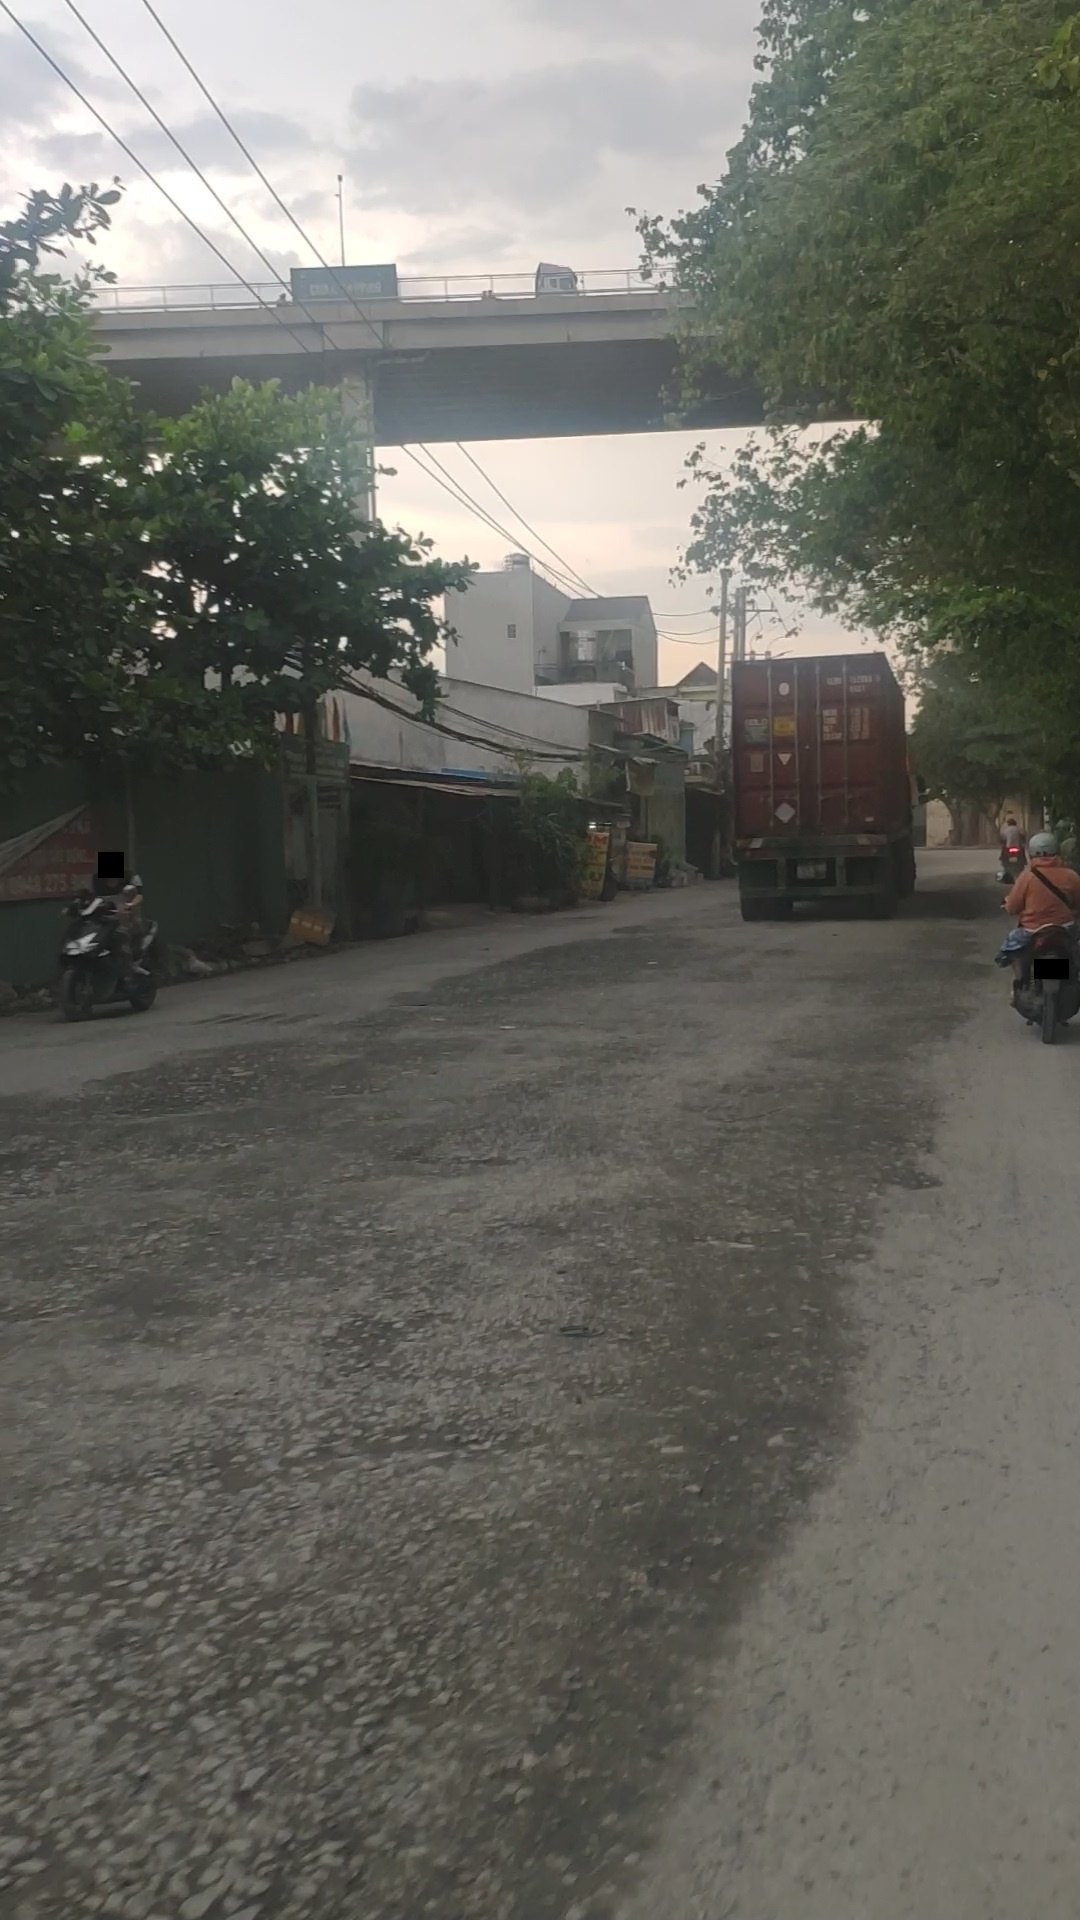hole: (1, 1203, 193, 1337), (1, 1116, 276, 1207), (82, 1036, 298, 1124), (382, 1112, 547, 1178), (295, 1063, 397, 1102)
